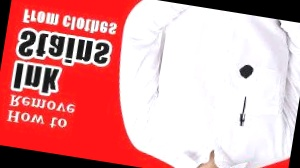ink: (238, 64, 254, 79)
